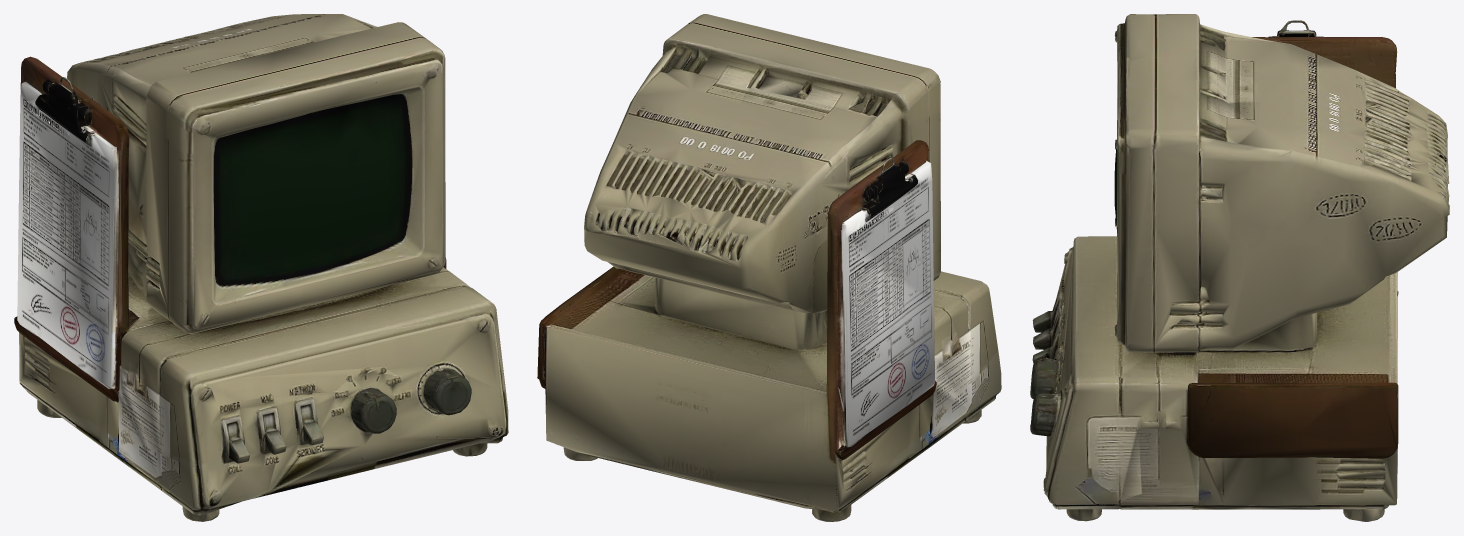
Rendered from Console.glb.
The picture shows the model from 3 angles, left to right: view 1: azimuth 30°, elevation 25°; view 2: azimuth 150°, elevation 25°; view 3: azimuth 270°, elevation 25°; orthographic projection. The views are drawn at different scales.
Parts seen in each view (by area): view 1: Mesh_0; view 2: Mesh_0; view 3: Mesh_0.
Boxes of the visible parts, <box> form: Mesh_0: <box>14,14,508,521</box>; Mesh_0: <box>537,14,1001,521</box>; Mesh_0: <box>1030,14,1449,521</box>.
Bounding box in the file's own units: 1.71 × 1.91 × 1.91.
1 material, 1 textured.
